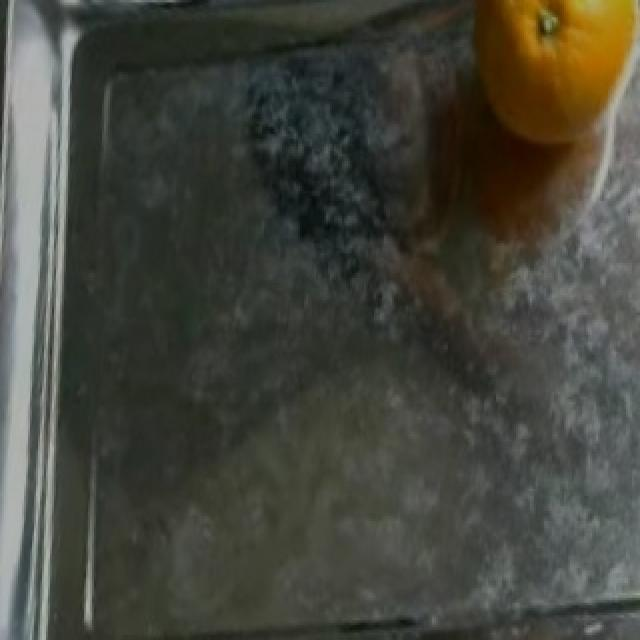Fruit: (444, 0, 640, 181)
